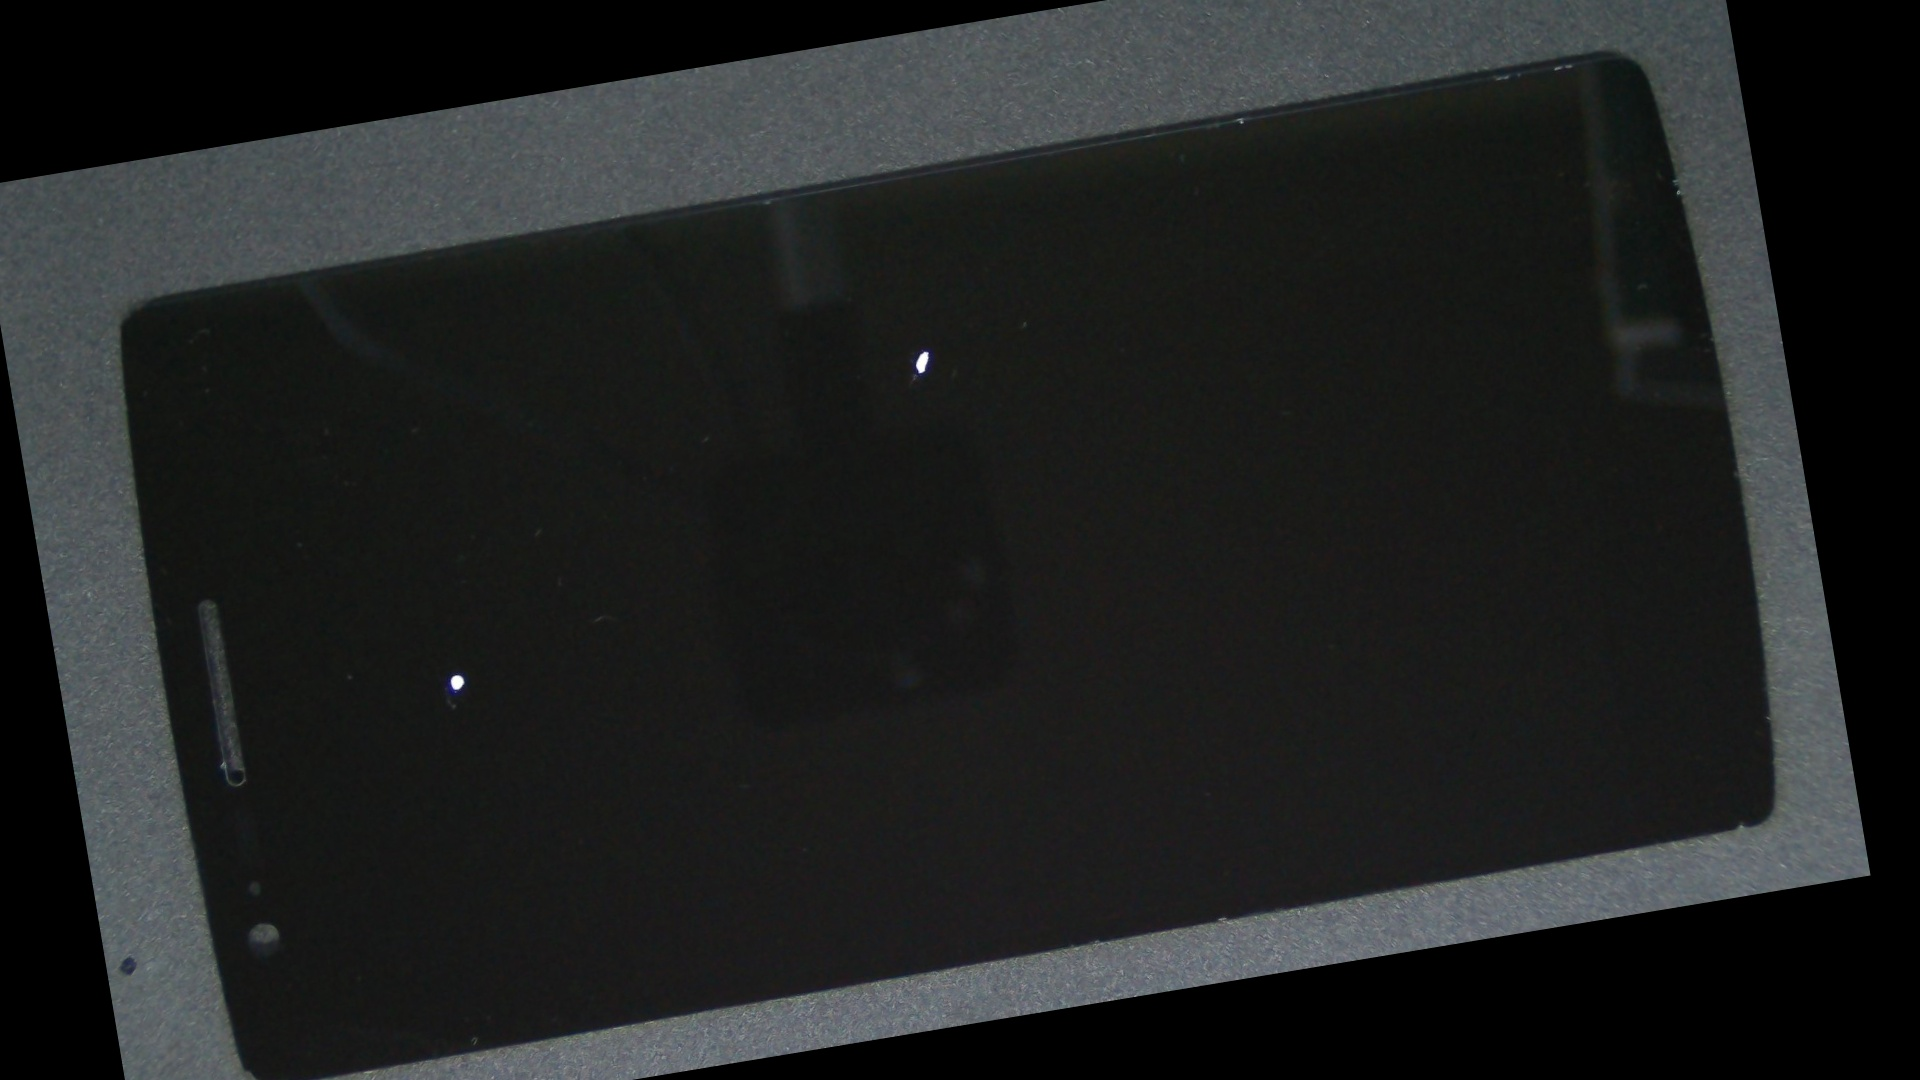oil: (451, 120, 1396, 580), (215, 367, 690, 982)
